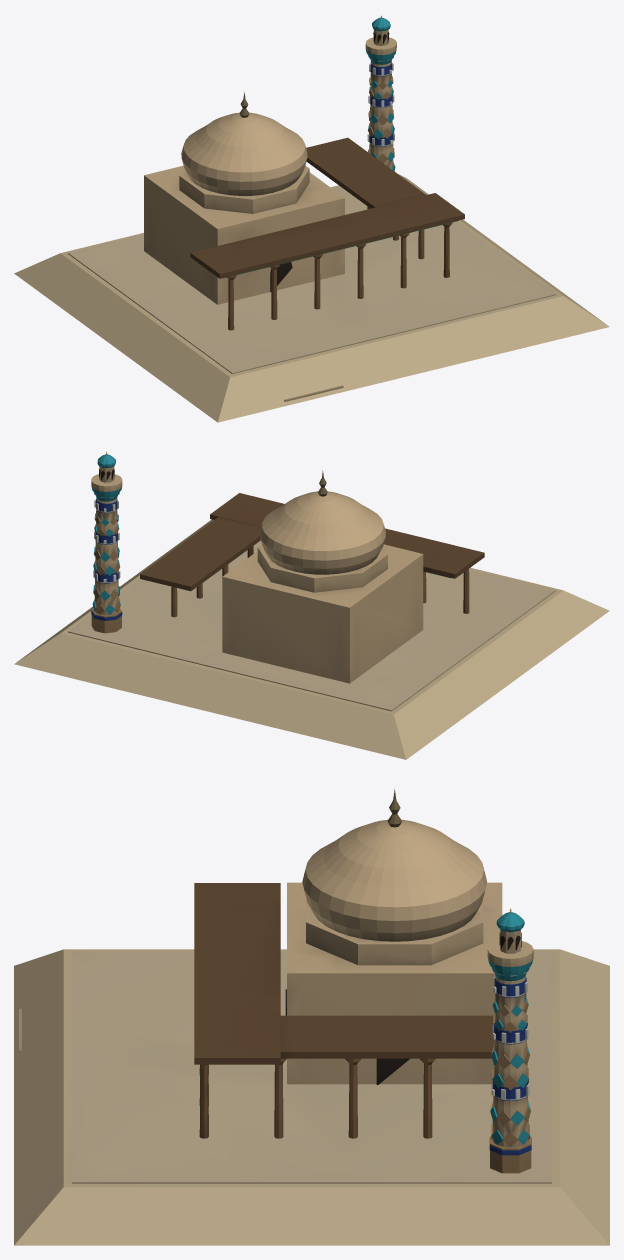
File: hazrat-khizr.glb
3 views of the same model, one above another, from view 1: azimuth 30°, elevation 25°; view 2: azimuth 150°, elevation 25°; view 3: azimuth 270°, elevation 25° (orthographic). The views are drawn at different scales.
Parts seen in each view (by area): view 1: p0_mosque, p1_minaret; view 2: p0_mosque, p1_minaret; view 3: p0_mosque, p1_minaret.
Boxes of the visible parts, x1,y1,x2,y2 form: p0_mosque: [14, 91, 609, 422]; p1_minaret: [365, 15, 396, 172]; p0_mosque: [14, 470, 609, 759]; p1_minaret: [91, 451, 122, 633]; p0_mosque: [14, 789, 609, 1245]; p1_minaret: [487, 908, 533, 1173].
Bounding box in the file's own units: 40 × 19.78 × 36.
